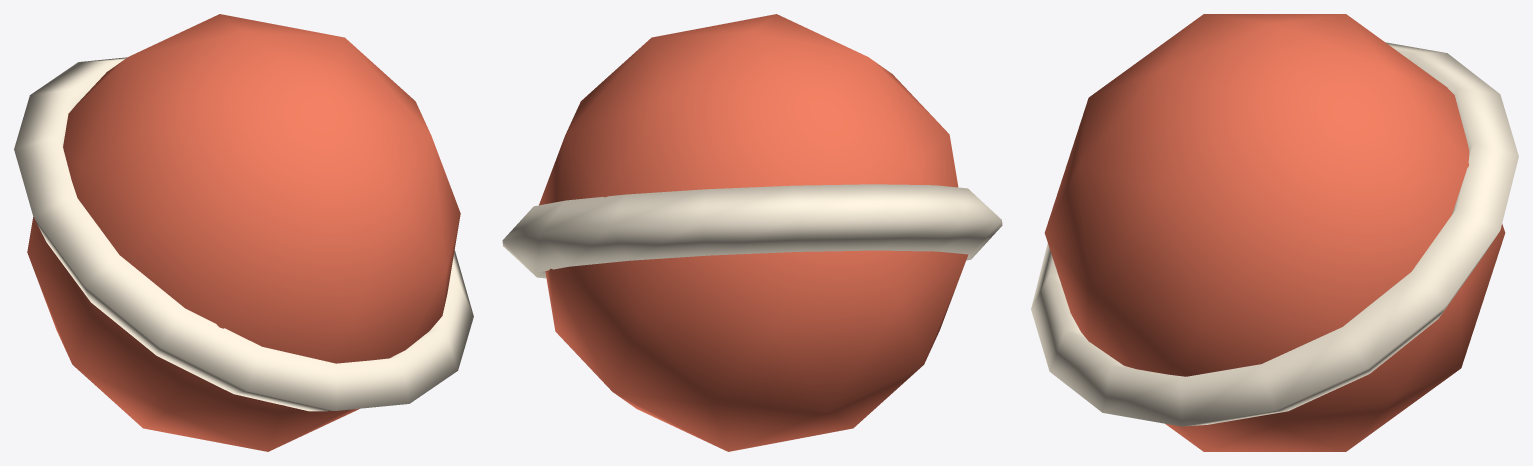
File: prop_ball.glb
The picture shows the model from 3 angles, left to right: view 1: azimuth 30°, elevation 25°; view 2: azimuth 150°, elevation 25°; view 3: azimuth 270°, elevation 25°; orthographic projection. The views are drawn at different scales.
Visible parts, largest first — view 1: prop_ball; view 2: prop_ball; view 3: prop_ball.
Part boxes in pixels (bbox=[...]): prop_ball: bbox=[14, 14, 473, 451]; prop_ball: bbox=[502, 14, 1002, 451]; prop_ball: bbox=[1031, 14, 1518, 451].
Bounding box in the file's own units: 0.1318 × 0.12 × 0.1271.
